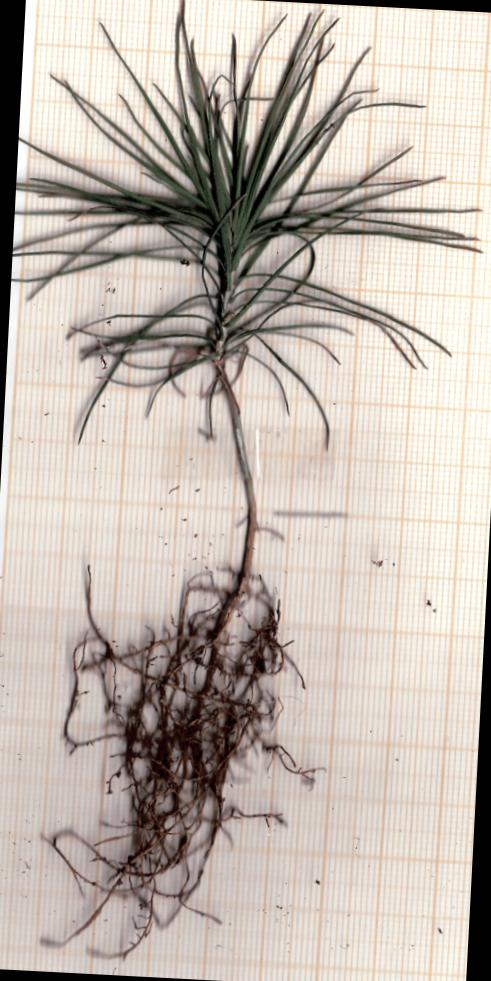flower: (13, 0, 478, 444)
root: (52, 574, 314, 954)
stem: (218, 367, 256, 591)
